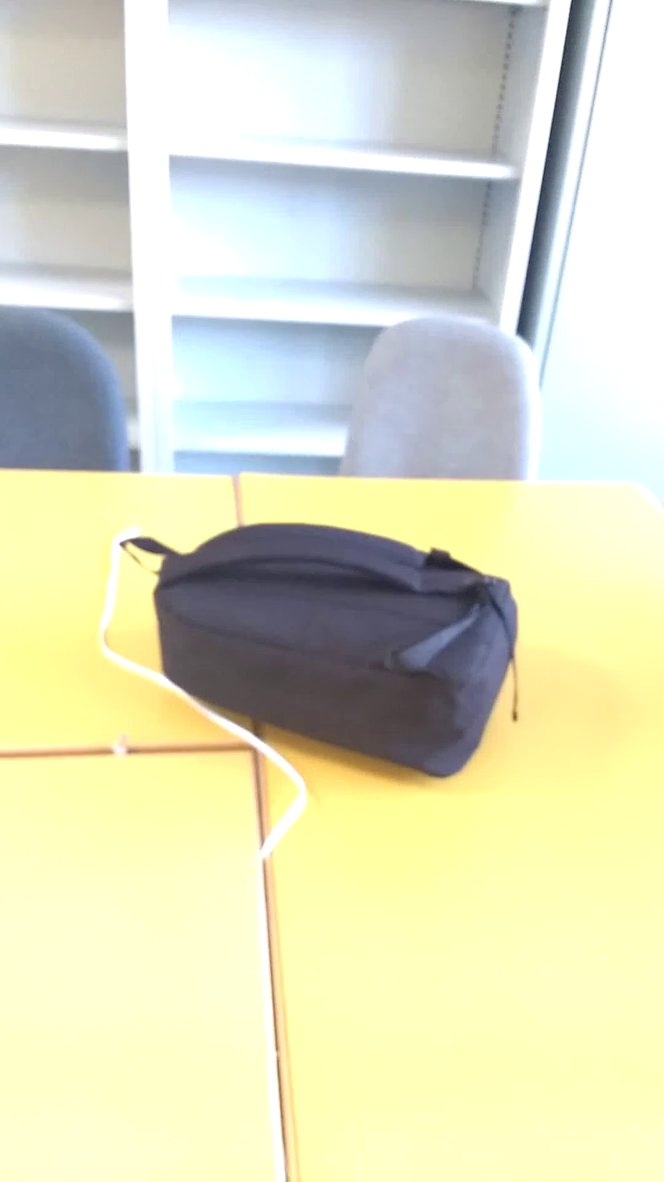bag: (102, 518, 534, 785)
chair: (327, 307, 565, 503), (1, 294, 153, 490)
